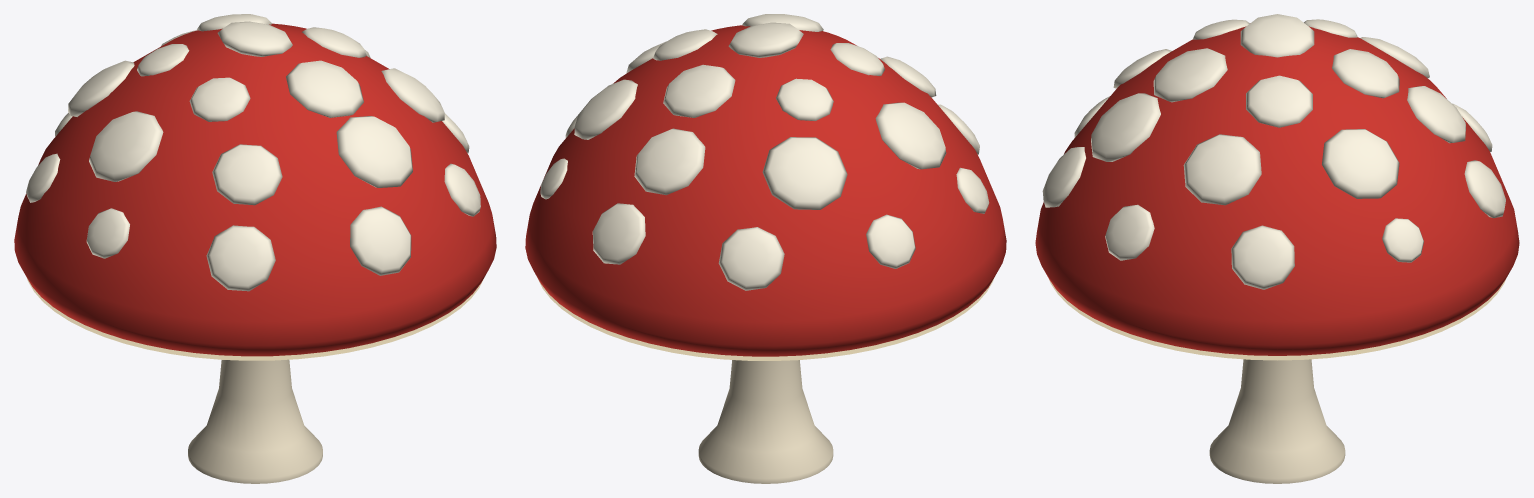
The model's file is original.glb.
The picture shows the model from 3 angles, left to right: view 1: azimuth 30°, elevation 25°; view 2: azimuth 150°, elevation 25°; view 3: azimuth 270°, elevation 25°; orthographic projection.
Parts seen in each view (by area): view 1: Cap, Cap spots, Stem, Gills; view 2: Cap, Cap spots, Stem, Gills; view 3: Cap, Cap spots, Stem, Gills.
Part boxes in pixels (box(x1,y1,x2,y2)): Cap: box(14, 23, 496, 356); Cap spots: box(26, 14, 480, 291); Stem: box(188, 359, 322, 483); Gills: box(27, 278, 483, 360); Cap: box(525, 25, 1006, 356); Cap spots: box(540, 14, 989, 290); Stem: box(698, 360, 833, 483); Gills: box(538, 279, 993, 360); Cap: box(1035, 26, 1519, 355); Cap spots: box(1042, 14, 1505, 289); Stem: box(1209, 359, 1345, 483); Gills: box(1049, 279, 1505, 360).
Size of the model in its own units: 5 by 4.9 by 5.
